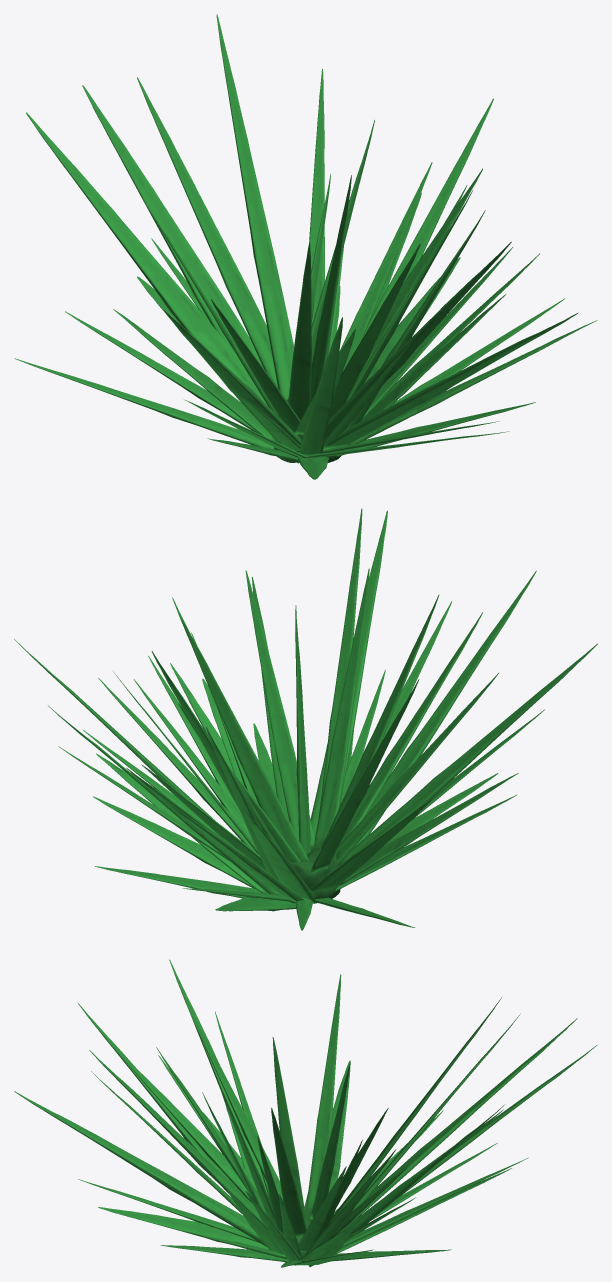
File: yucca_1.glb
3 renders of one model, top to bottom at view 1: azimuth 30°, elevation 25°; view 2: azimuth 150°, elevation 25°; view 3: azimuth 270°, elevation 25°, orthographic. The views are drawn at different scales.
Parts seen in each view (by area): view 1: Cube.016, Cube.030, Cube.026, Cube.025, Cube.012, Cube.035, Cube.022, Cube.002, Cube.011, Cube.017, Cube.049, Cube.044 (+23 smaller); view 2: Cube.044, Cube.046, Cube.045, Cube.008, Cube.002, Cube.001, Cube.012, Cube.011, Cube.036, Cube.003, Cube.035, Cube.049 (+30 smaller); view 3: Cube.012, Cube.036, Cube.030, Cube.001, Cube.048, Cube.035, Cube.011, Cube.009, Cube.049, Cube.046, Cube.016, Cube.025 (+28 smaller).
Boxes of the visible parts, x1,y1,x2,y2 form: Cube.016: (216, 14, 293, 399); Cube.030: (26, 112, 267, 405); Cube.026: (82, 85, 263, 367); Cube.025: (137, 77, 277, 387); Cube.012: (323, 312, 578, 450); Cube.035: (288, 243, 311, 420); Cube.022: (362, 98, 493, 338); Cube.002: (298, 317, 342, 457); Cube.011: (325, 241, 511, 438); Cube.017: (309, 69, 324, 324); Cube.049: (310, 175, 351, 401); Cube.044: (329, 243, 420, 419); Cube.044: (314, 568, 369, 845); Cube.046: (181, 619, 309, 861); Cube.045: (245, 570, 314, 845); Cube.008: (339, 643, 597, 866); Cube.002: (352, 570, 536, 848); Cube.001: (339, 612, 482, 845); Cube.012: (310, 510, 387, 837); Cube.011: (318, 508, 362, 817); Cube.036: (310, 679, 419, 874); Cube.003: (336, 673, 498, 865); Cube.035: (321, 594, 439, 857); Cube.049: (295, 605, 310, 854); Cube.012: (14, 1091, 266, 1246); Cube.036: (306, 974, 341, 1211); Cube.030: (349, 1018, 577, 1223); Cube.001: (112, 1045, 257, 1202); Cube.048: (271, 1107, 306, 1237); Cube.035: (186, 1004, 282, 1200); Cube.011: (89, 1050, 261, 1221); Cube.009: (98, 1207, 268, 1249); Cube.049: (272, 1037, 307, 1226); Cube.046: (310, 1063, 350, 1219); Cube.016: (330, 997, 501, 1222); Cube.025: (335, 1013, 520, 1235).
Bounding box in the file's own units: 0.6214 × 0.4411 × 0.8315.
2 materials, 2 textured.
